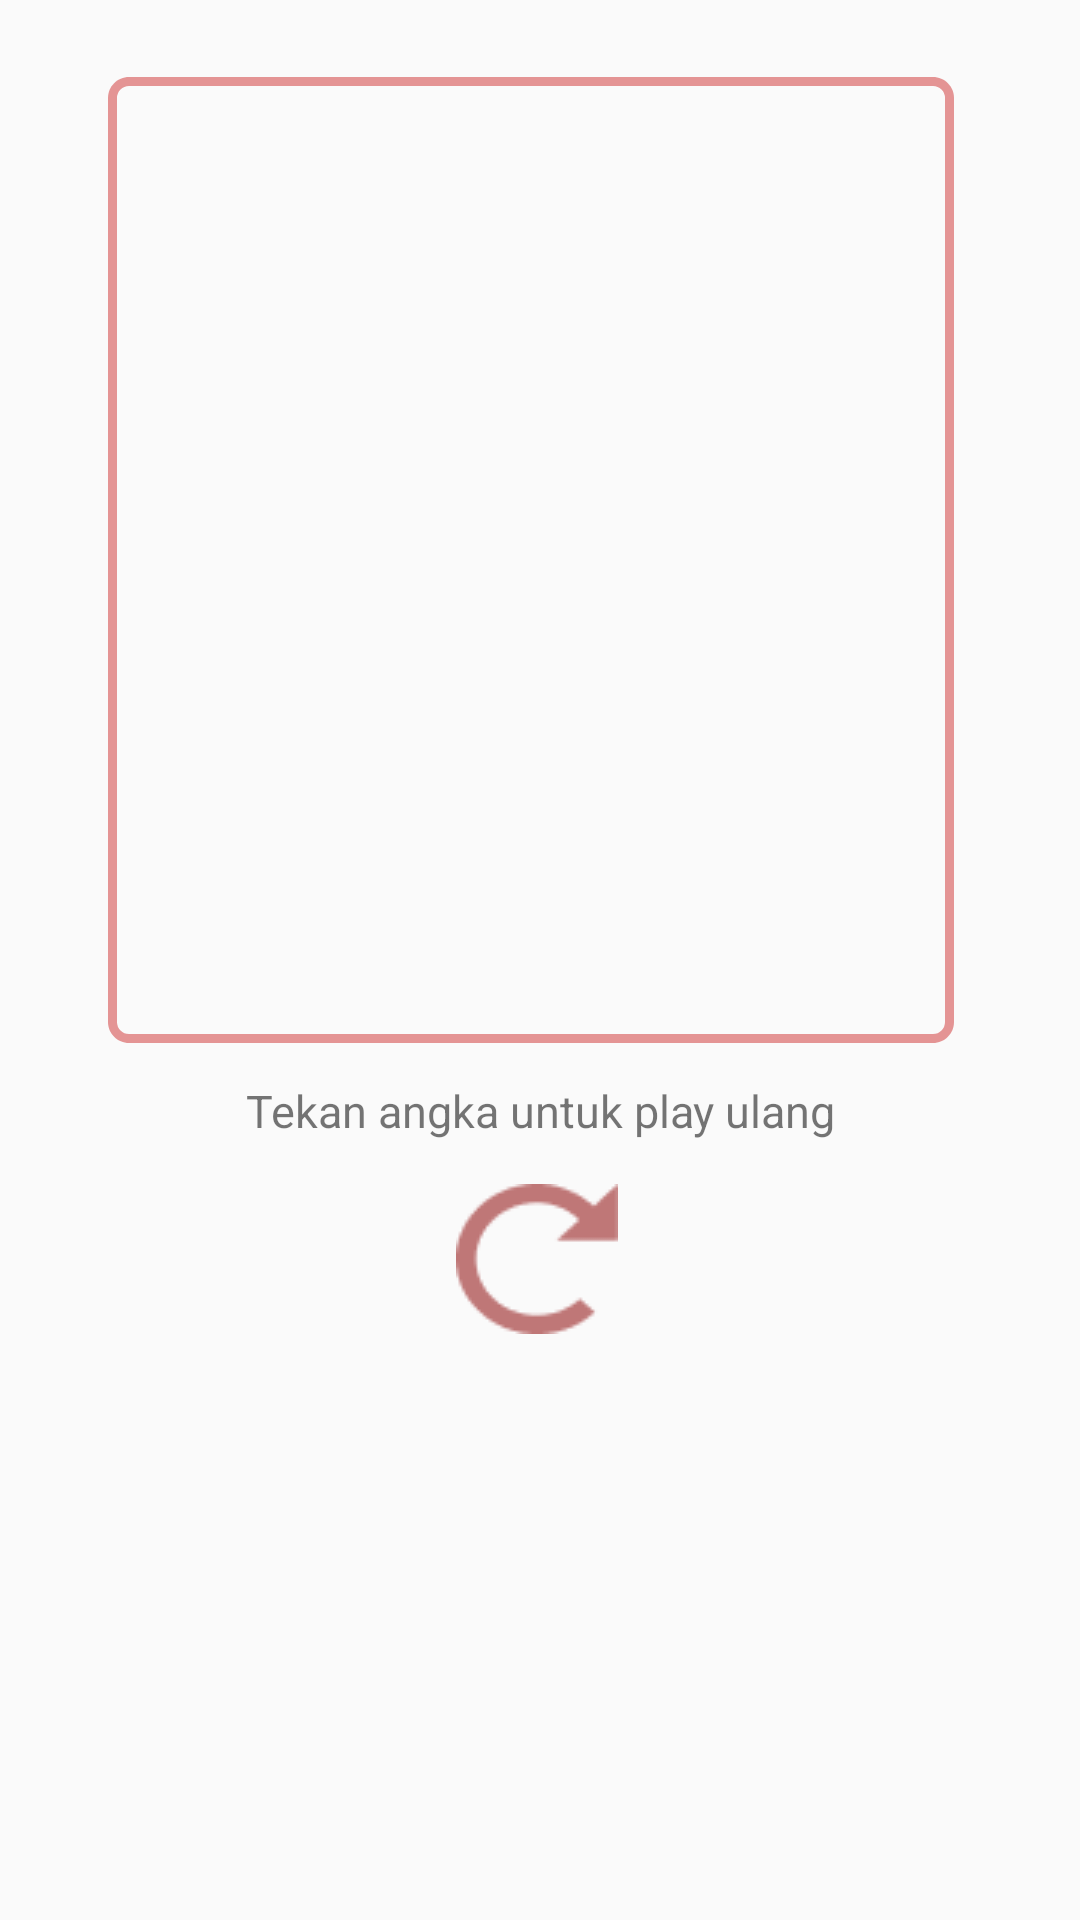

Icons on this 1080w x 1920h Android screen, each with the point to tap as [x,y]:
reload: [537,1259]
